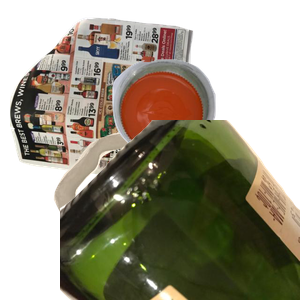glass: (60, 120, 300, 300)
paper: (10, 15, 196, 195)
plastic: (110, 57, 300, 205)
trash: (51, 120, 291, 300)
